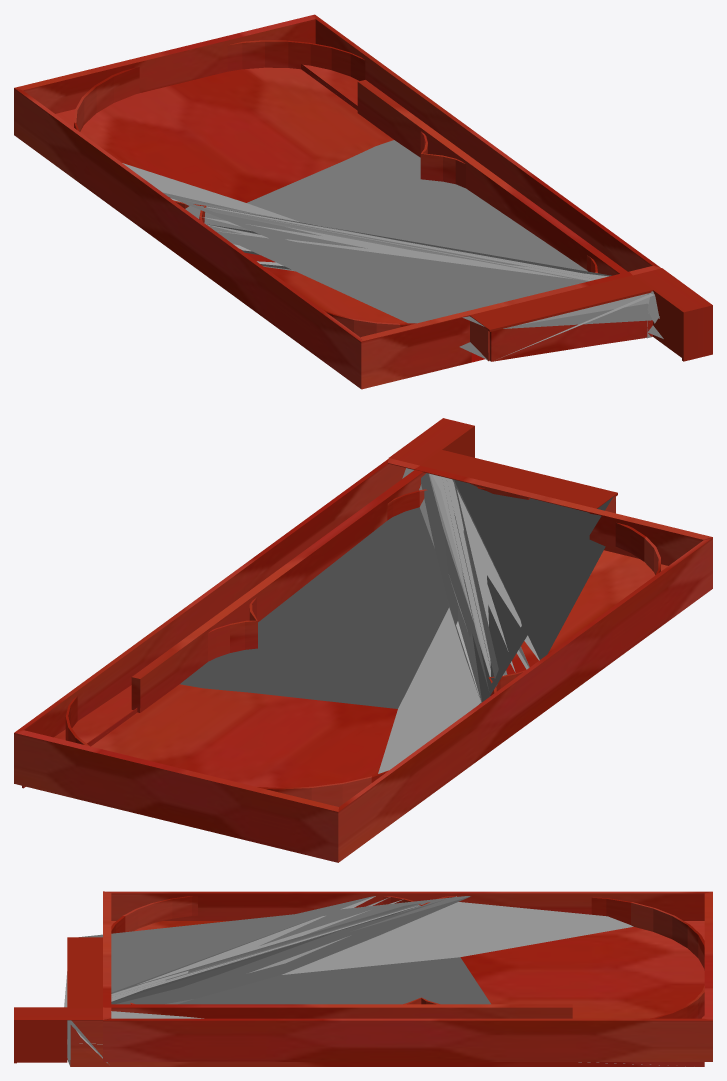
The model's file is newtable.obj.
3 views of the same model, one above another, from view 1: azimuth 30°, elevation 25°; view 2: azimuth 150°, elevation 25°; view 3: azimuth 270°, elevation 25° (orthographic). The views are drawn at different scales.
Visible parts, largest first — view 1: Cube; view 2: Cube; view 3: Cube.
Boxes of the visible parts, box(x1,y1,x2,y2) form: Cube: box(14, 14, 712, 389); Cube: box(14, 418, 712, 862); Cube: box(14, 891, 712, 1066).
Size of the model in its own units: 5 by 0.8677 by 11.46.
